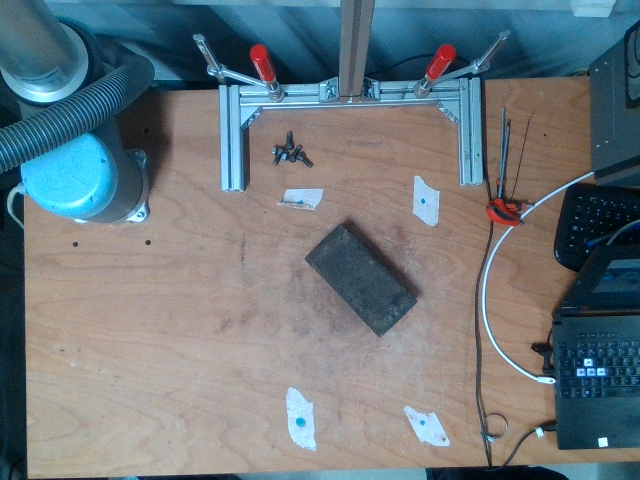brick: (303, 222, 415, 337)
